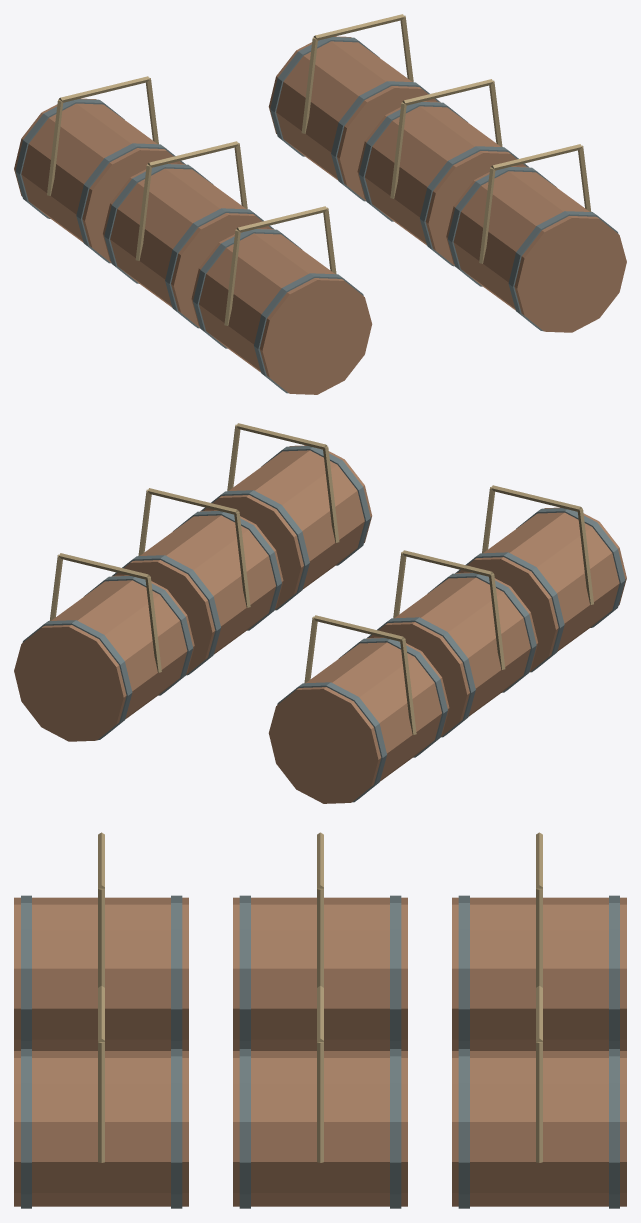
Rendered from campaign_raft_floats.glb.
The picture shows the model from 3 angles, top to bottom: view 1: azimuth 30°, elevation 25°; view 2: azimuth 150°, elevation 25°; view 3: azimuth 270°, elevation 25°; orthographic projection. The views are drawn at different scales.
Parts seen in each view (by area): view 1: campaign_raft_floats; view 2: campaign_raft_floats; view 3: campaign_raft_floats.
Part boxes in pixels (<box>): campaign_raft_floats: <box>14,14,626,394</box>; campaign_raft_floats: <box>14,423,626,803</box>; campaign_raft_floats: <box>14,832,626,1208</box>.
Size of the model in its own units: 1.68 by 0.668 by 1.96.
